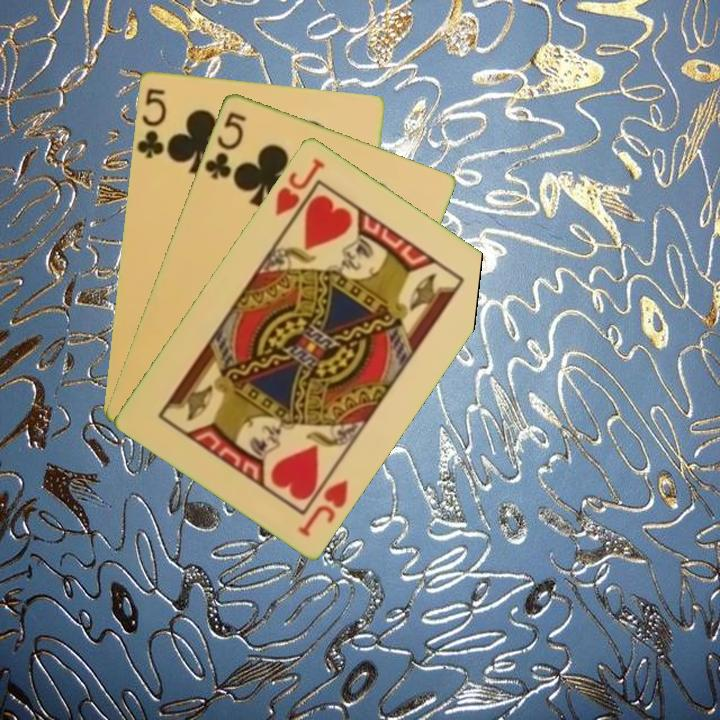5c: (200, 107, 249, 182), (134, 84, 170, 161)
Jh: (271, 153, 328, 218), (294, 475, 351, 539)
